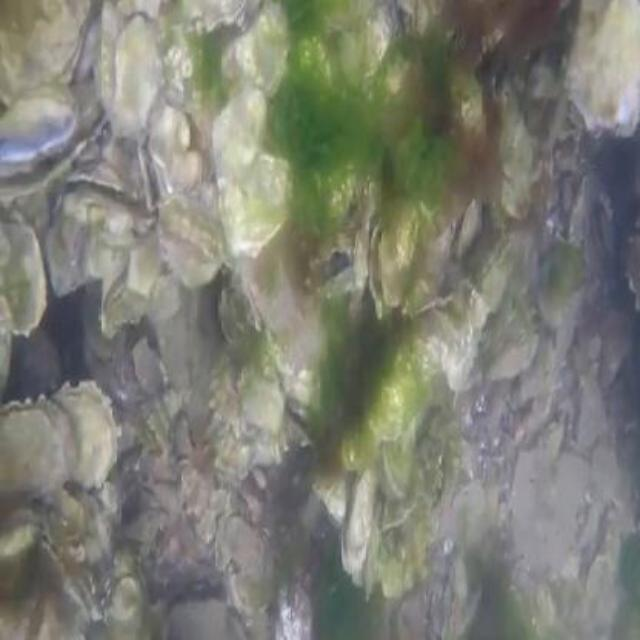Oyster-Closed: (0, 0, 97, 108), (566, 1, 640, 138), (364, 324, 432, 439), (54, 381, 122, 490), (220, 154, 294, 253), (409, 295, 478, 392), (112, 14, 164, 133), (159, 202, 227, 288), (210, 90, 265, 187), (229, 8, 287, 93), (337, 10, 394, 93), (341, 467, 377, 577), (305, 463, 354, 530), (473, 230, 512, 309), (383, 419, 416, 497), (179, 0, 248, 35), (225, 513, 262, 576), (241, 379, 285, 430), (277, 582, 311, 640), (456, 200, 483, 260), (354, 227, 368, 288)
Oyster-Open: (0, 396, 75, 512), (0, 86, 79, 181), (142, 106, 203, 207), (371, 196, 417, 311), (309, 233, 354, 304), (42, 532, 59, 562)
